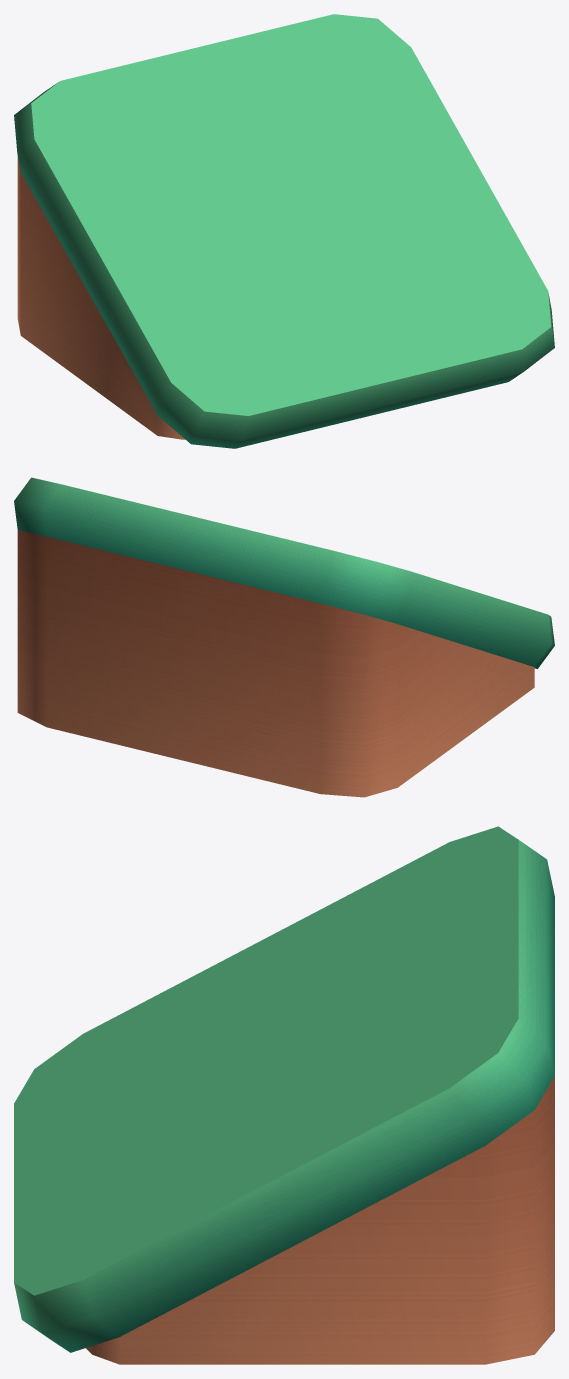
Rendered from block-grass-large-slope-steep.glb.
3 renders of one model, top to bottom at view 1: azimuth 30°, elevation 25°; view 2: azimuth 150°, elevation 25°; view 3: azimuth 270°, elevation 25°, orthographic. The views are drawn at different scales.
Parts seen in each view (by area): view 1: block-grass-large-slope-steep; view 2: block-grass-large-slope-steep; view 3: block-grass-large-slope-steep.
Boxes of the visible parts, x1,y1,x2,y2 form: block-grass-large-slope-steep: [14, 14, 554, 448]; block-grass-large-slope-steep: [14, 477, 554, 797]; block-grass-large-slope-steep: [14, 826, 554, 1364].
Bounding box in the file's own units: 2.08 × 1.22 × 1.86.
Materials: 1 (1 with a texture image).
